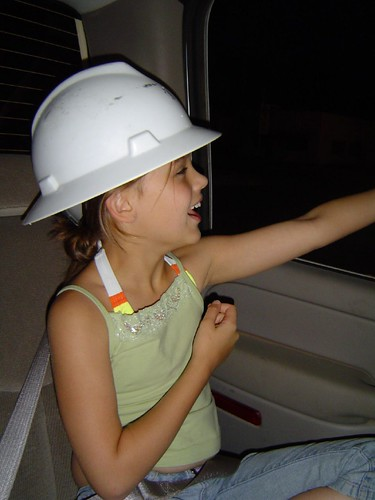person hardhat: (25, 59, 319, 500)
